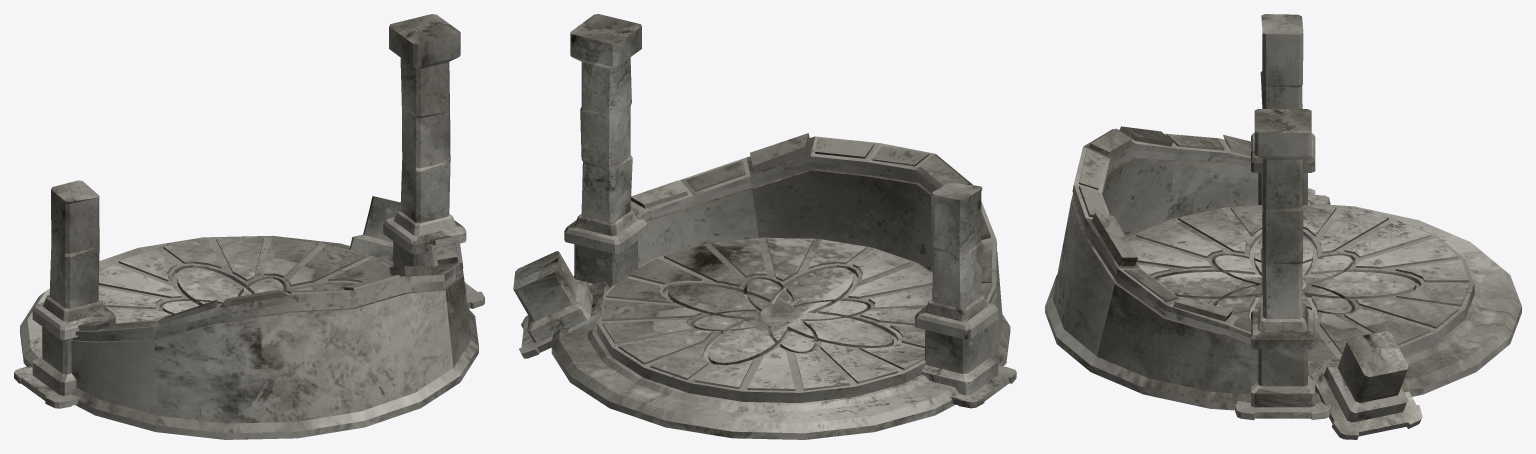
Rendered from Enemy_Portal.fbx.
3 views of the same model, side by side, from view 1: azimuth 30°, elevation 25°; view 2: azimuth 150°, elevation 25°; view 3: azimuth 270°, elevation 25° (orthographic). The views are drawn at different scales.
Visible parts, largest first — view 1: Portal_Base, Pillar_Full, Pillar_Broken, Pillar_Broken_Base; view 2: Portal_Base, Pillar_Full, Pillar_Broken, Pillar_Broken_Base, Portal_Spawn; view 3: Portal_Base, Pillar_Full, Pillar_Broken_Base, Pillar_Broken.
Boxes of the visible parts, box(x1,y1,x2,y2) form: Portal_Base: box(20, 235, 478, 439); Pillar_Full: box(383, 14, 484, 308); Pillar_Broken: box(14, 180, 115, 408); Pillar_Broken_Base: box(331, 196, 400, 266); Portal_Base: box(551, 133, 1010, 439); Pillar_Full: box(564, 14, 647, 288); Pillar_Broken: box(915, 183, 1016, 408); Pillar_Broken_Base: box(513, 251, 609, 358); Portal_Spawn: box(758, 305, 802, 327); Portal_Base: box(1045, 126, 1521, 410); Pillar_Full: box(1235, 109, 1331, 420); Pillar_Broken_Base: box(1308, 331, 1422, 439); Pillar_Broken: box(1251, 14, 1330, 205).
Bounding box in the file's own units: 11.77 × 7.26 × 10.6.
